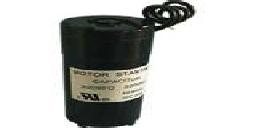Electrolytic-capacitor: (58, 3, 194, 128)
